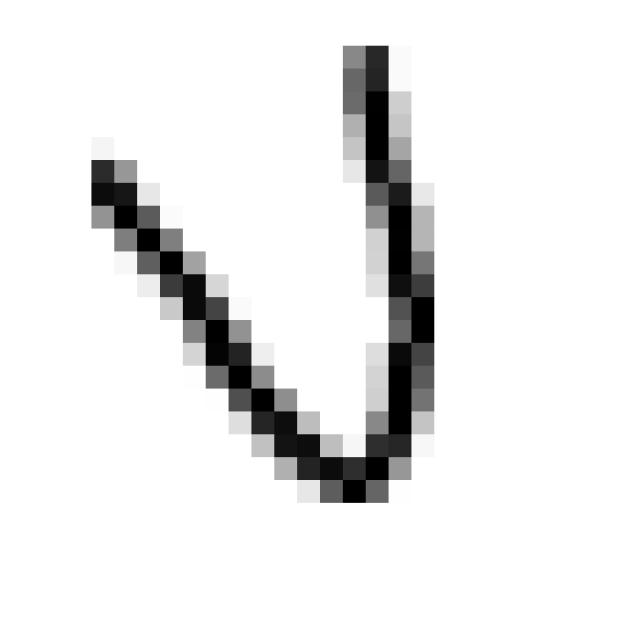7 -seven-: (73, 30, 453, 518)
